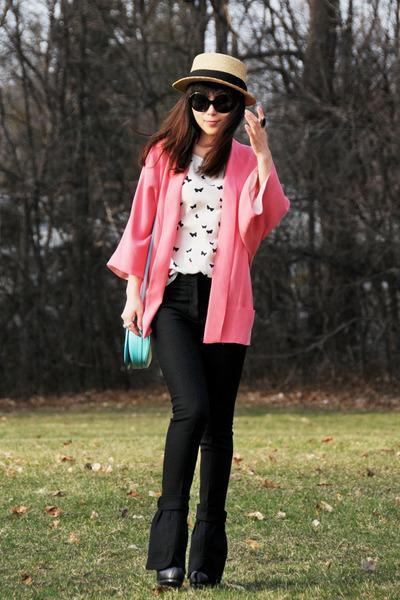bag: (124, 331, 149, 360)
hat: (191, 36, 273, 90)
jacket: (108, 141, 289, 344)
pants: (148, 272, 246, 563)
shirt: (170, 156, 223, 273)
shoe: (146, 550, 226, 592)
sunglass: (185, 94, 215, 131)
